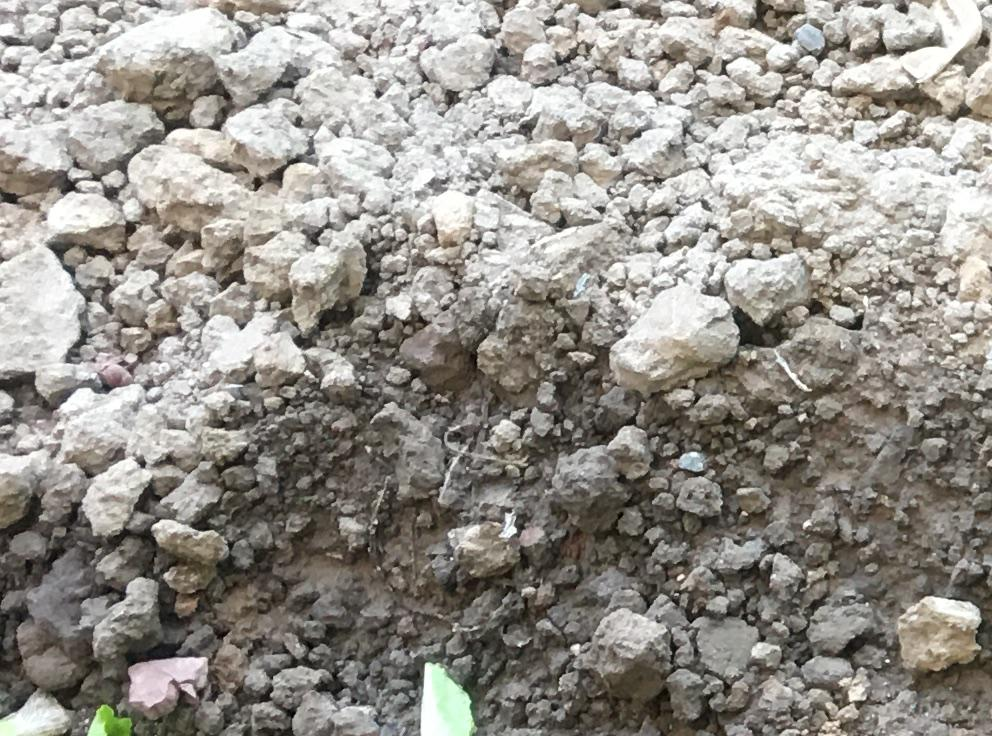block: (607, 282, 739, 400), (92, 9, 234, 108), (1, 254, 76, 382), (901, 593, 984, 682), (587, 610, 666, 700)
